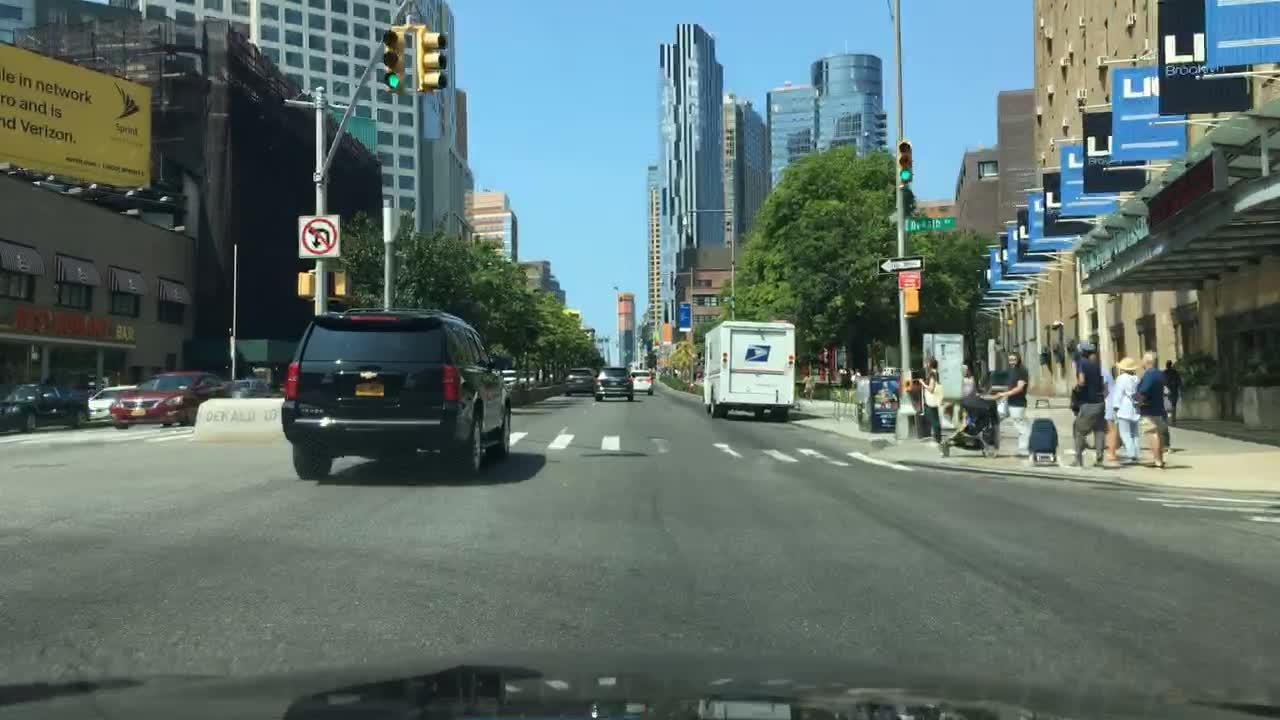chevrolet: (353, 362, 380, 382)
